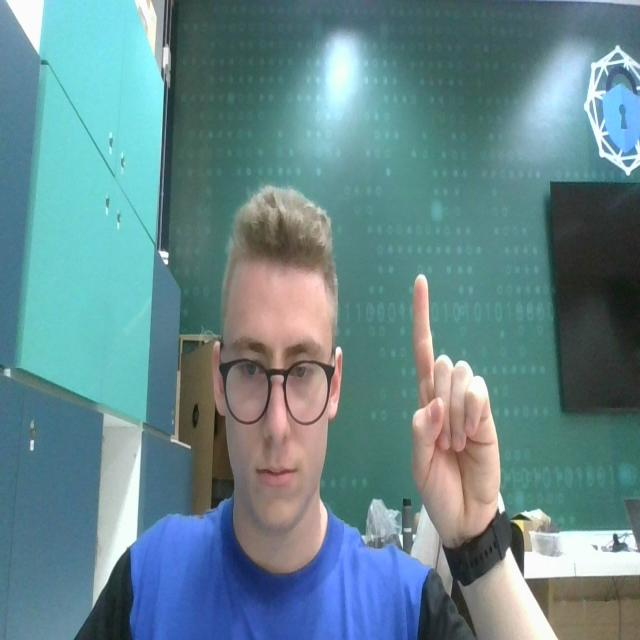D2: (406, 269, 503, 535)
